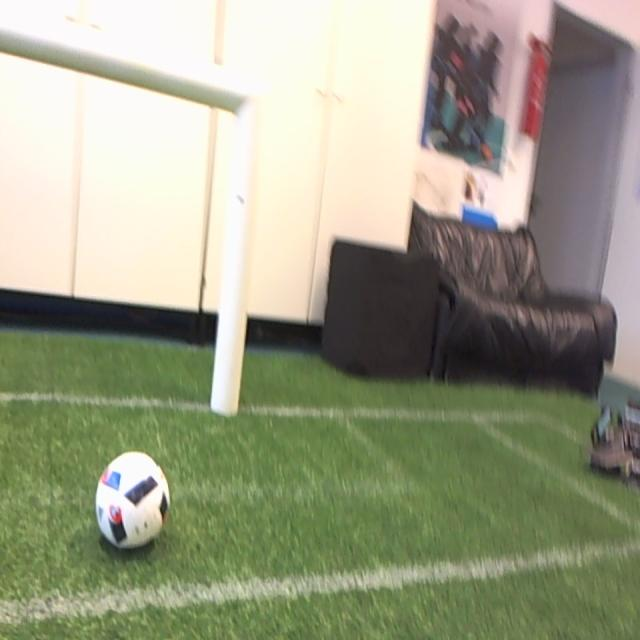ball: (94, 450, 168, 551)
goalpost: (209, 87, 262, 415)
